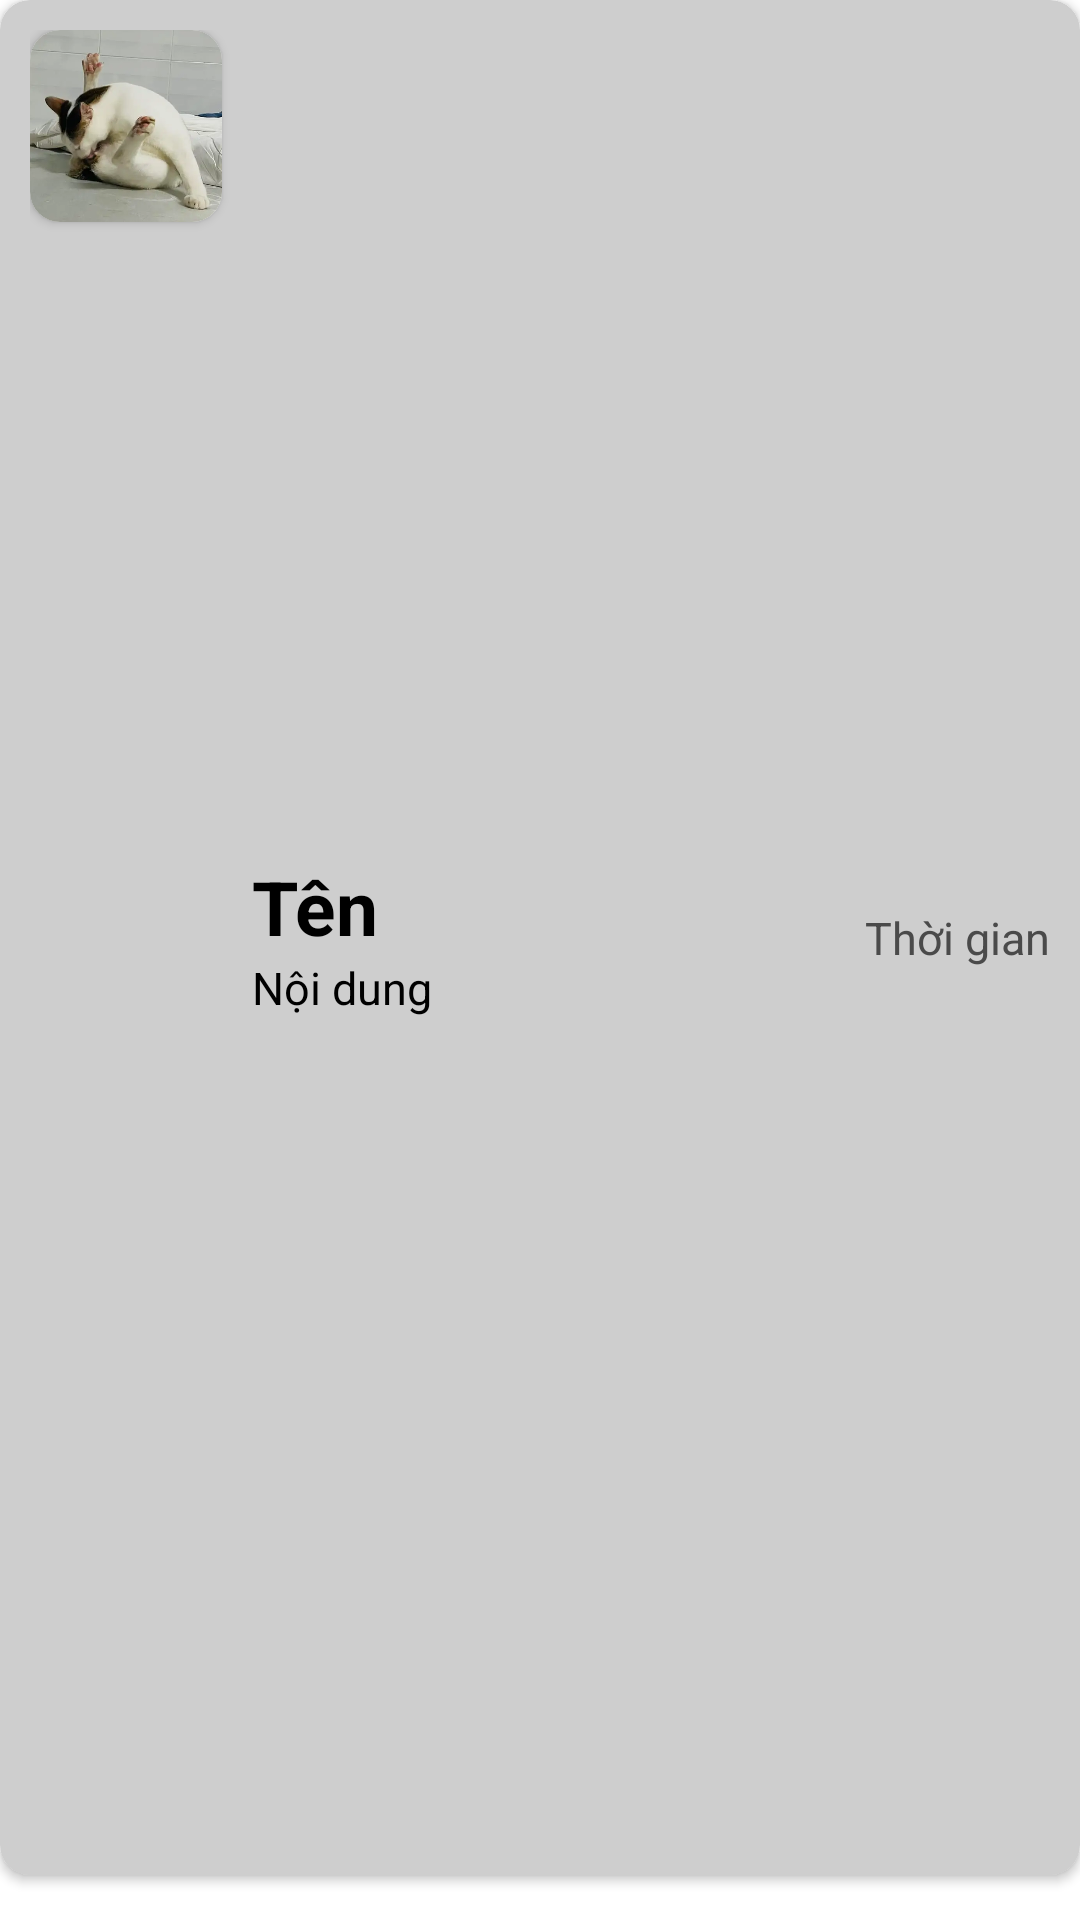

Named icons in this screenshot (1080x1920) and their bounding boxes, region(x1, y1, x2, y2):
profilepic: region(30, 30, 222, 222)
